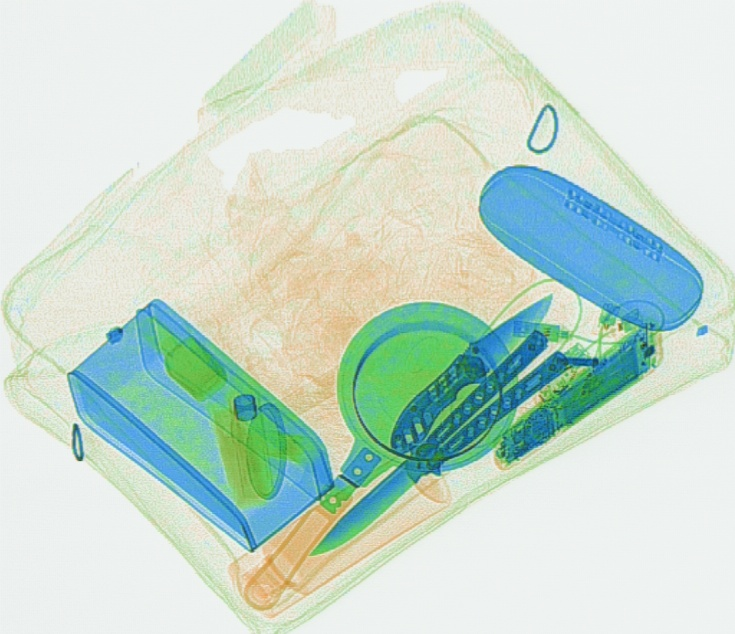knife: (308, 327, 570, 557), (387, 292, 553, 455)
